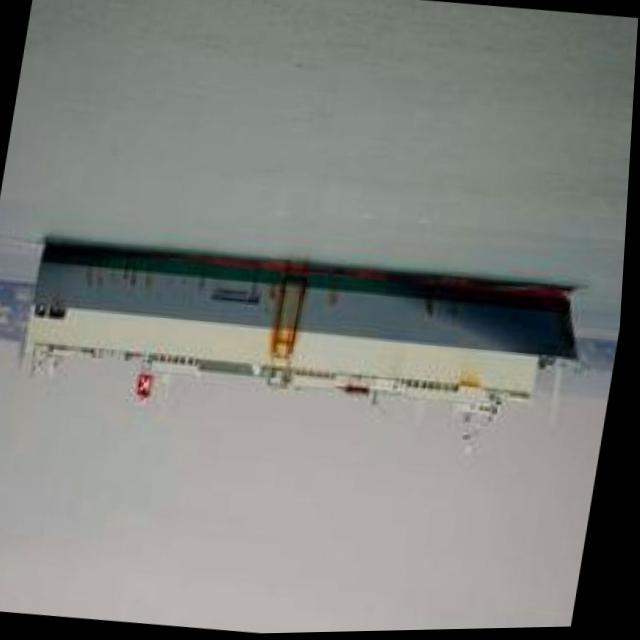ship2: (25, 240, 581, 413)
